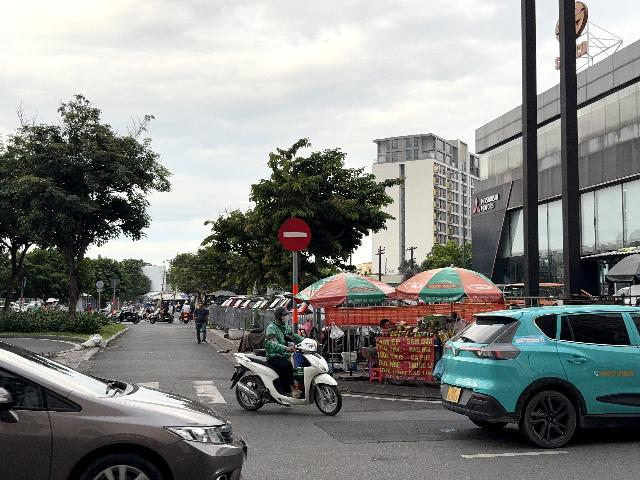cam-di-nguoc-chieu: (278, 217, 311, 252)
